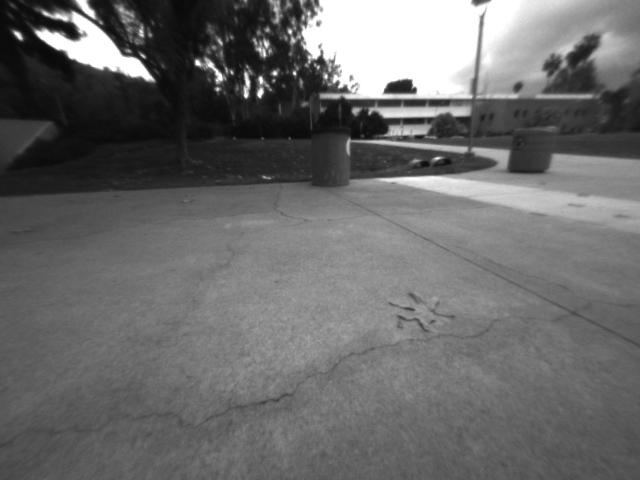trashcan: (306, 126, 354, 181), (509, 127, 553, 172)
